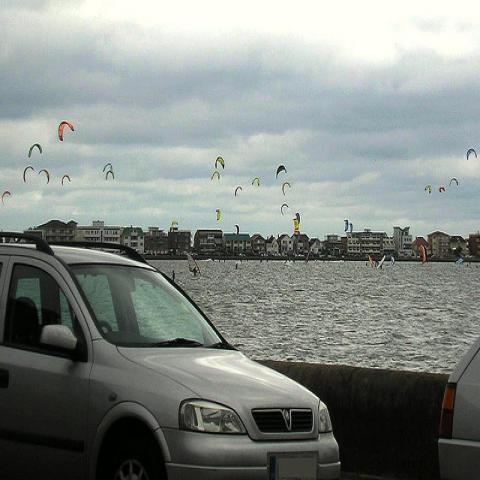car: (0, 234, 341, 479), (433, 322, 479, 474)
